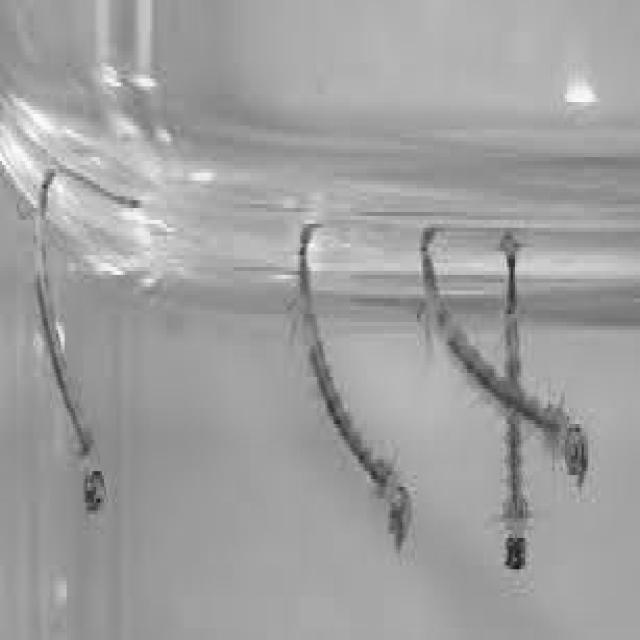larvas: (423, 230, 589, 570), (300, 224, 413, 553), (34, 170, 107, 511), (503, 412, 527, 570)
